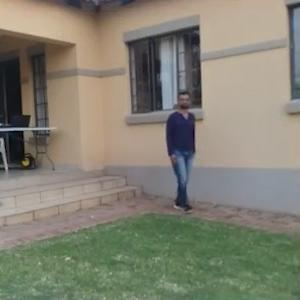follow: (158, 85, 198, 218)
